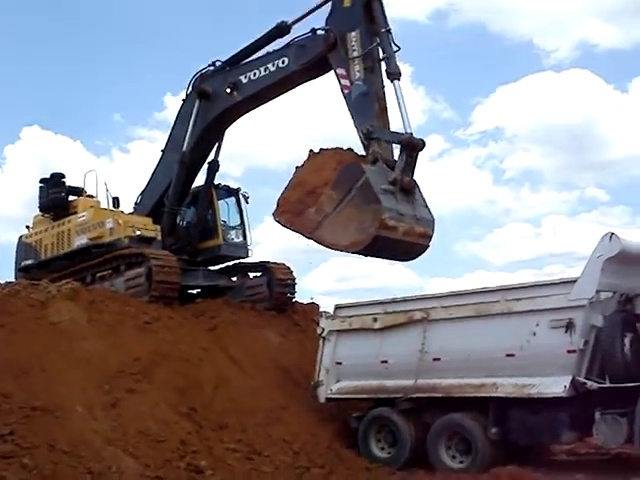excavator: (15, 1, 438, 305)
truck: (316, 230, 640, 470)
